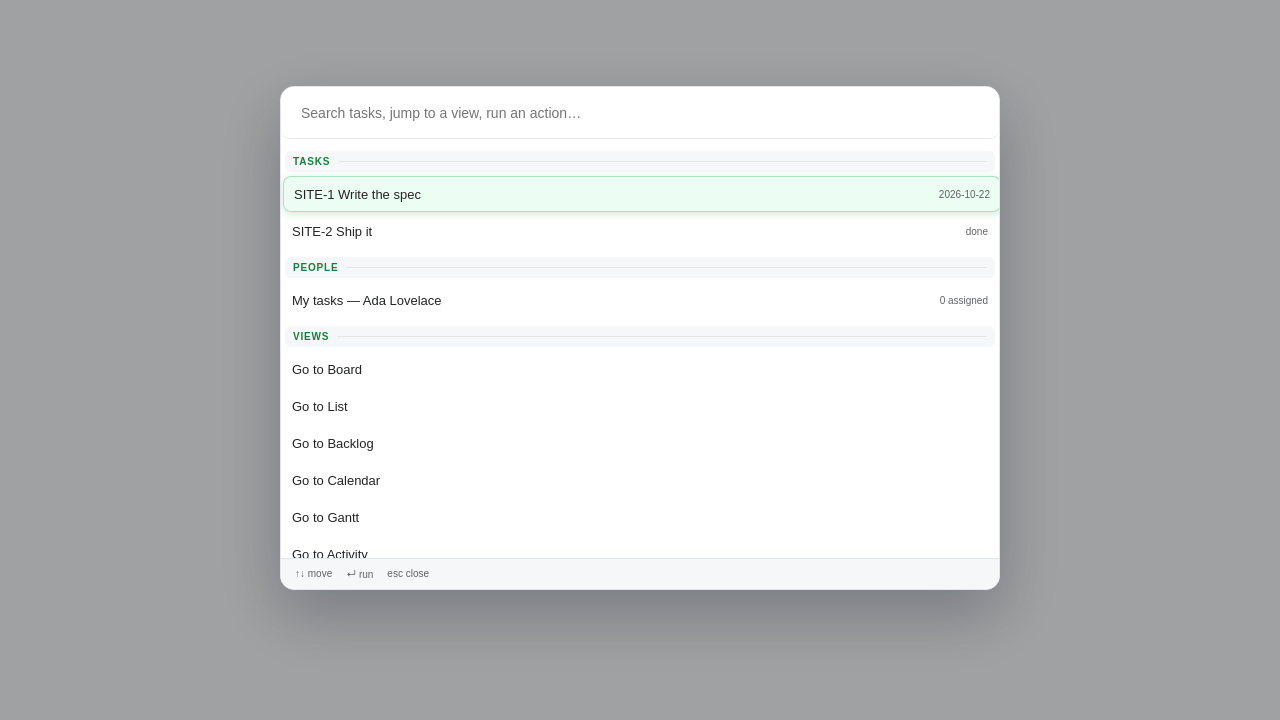
Test case: CommandPalette › says so when nothing matches
This screenshot has width=1280, height=720.
Type "zzzz" into the field named "Command palette search".
click(640, 113); type("zzzz")  # box x1=281 y1=87 x2=999 y2=139
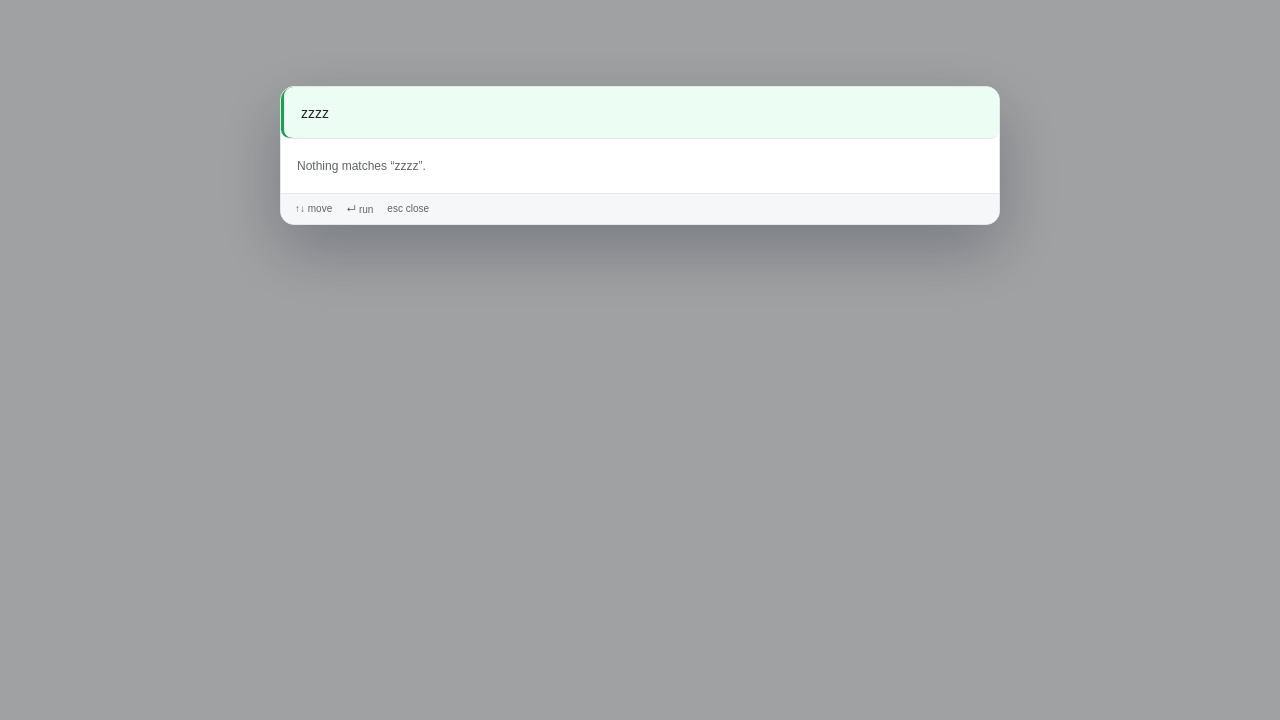
Result: the text "Nothing matches “zzzz”." is shown at x1=297 y1=159 x2=426 y2=173
